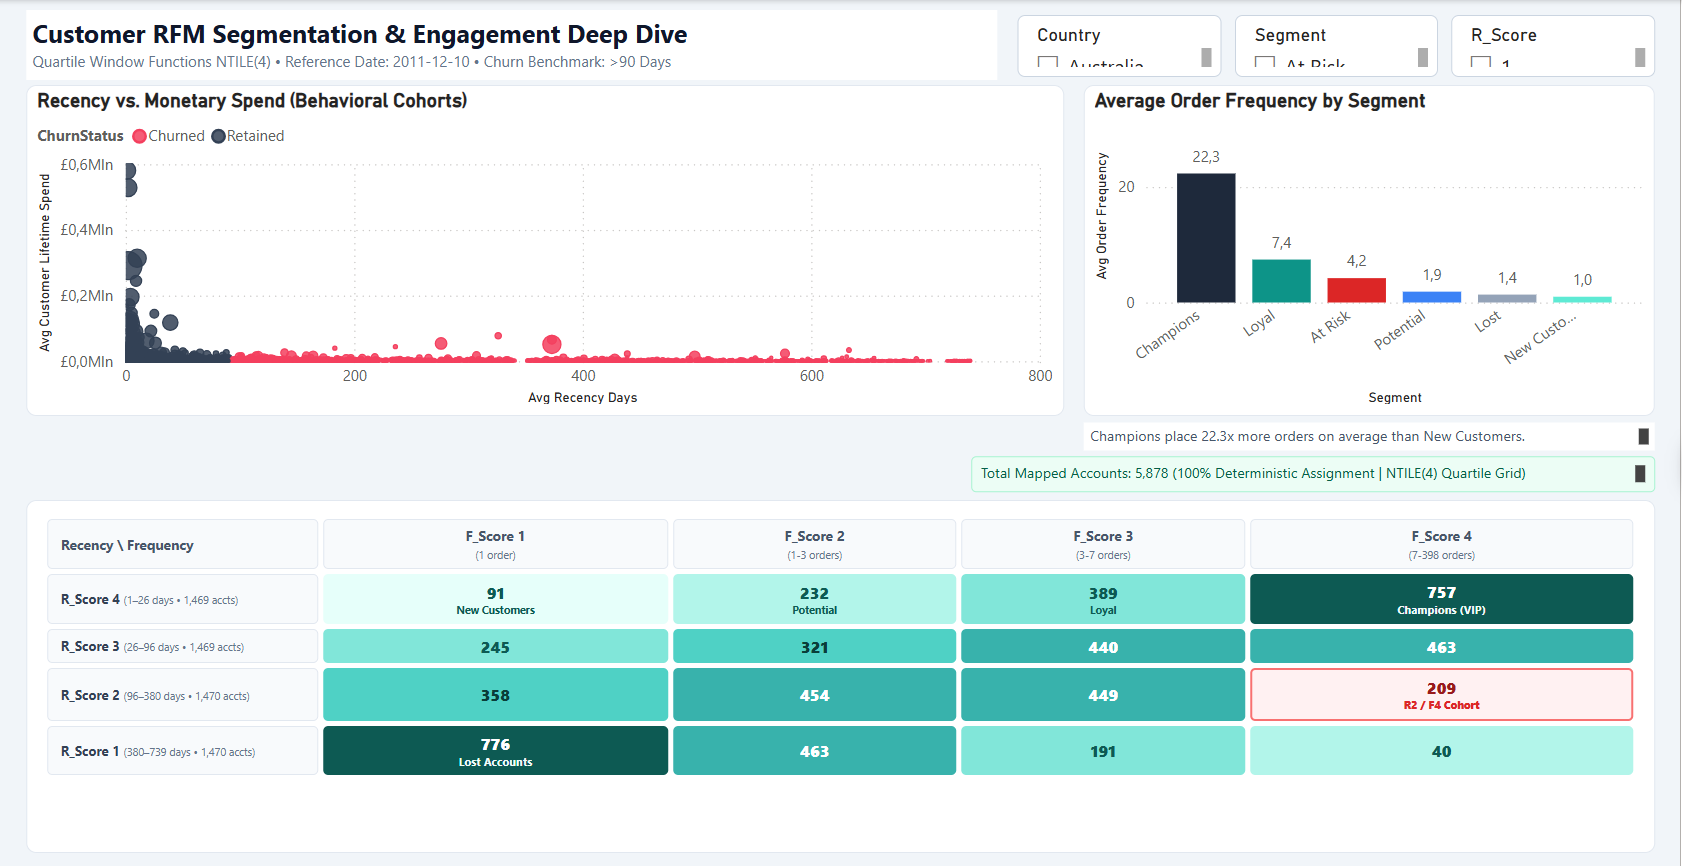

The dashboard page shown, as its layout file describes it:
{"tool":"powerbi","page":{"name":"RFM Deep Dive & Matrix","canvas":[1280,720],"ordinal":1},"visuals":[{"type":"textbox","box":[20,8,740,58],"z":0},{"type":"slicer","fields":{"Values":["customer_churn_rfm.Country"]},"box":[770,10,155,52],"z":1000},{"type":"slicer","fields":{"Values":["customer_churn_rfm.Segment"]},"box":[935,10,155,52],"z":2000},{"type":"slicer","fields":{"Values":["customer_churn_rfm.R_Score"]},"box":[1100,10,160,52],"z":3000},{"type":"scatterChart","title":"Recency vs. Monetary Spend (Behavioral Cohorts)","fields":{"Category":["customer_churn_rfm.CustomerID"],"Series":["customer_churn_rfm.ChurnStatus"],"X":["customer_churn_rfm.Avg Recency Days"],"Y":["customer_churn_rfm.Avg Customer Lifetime Spend"],"Size":["customer_churn_rfm.Avg Order Frequency"]},"box":[20,70,790,275],"z":4000},{"type":"clusteredColumnChart","title":"Average Order Frequency by Segment","fields":{"Category":["customer_churn_rfm.Segment"],"Y":["customer_churn_rfm.Avg Order Frequency"]},"box":[825,70,435,275],"z":5000},{"type":"textbox","box":[825,350,435,24],"z":6000},{"type":"textbox","box":[740,378,520,30],"z":7000},{"type":"pbixHtml5C3A2F1E9B7D46A8C0E1D2F3A4B5C6D7","title":"RFM Customer Density Heatmap Matrix (4 × 4 Quartile Grid)","fields":{"content":["C"]},"box":[20,414,1240,294],"z":8000}]}

Visuals, with their boxes on the page's 1280x720 design canvas (x1, y1, x2, y2). These are canvas units, not pixel positions in the 1682x866 screenshot, which may show the page scaled, cropped or inside an application window:
textbox: bbox=[20, 8, 760, 66]
slicer - customer_churn_rfm.Country: bbox=[770, 10, 925, 62]
slicer - customer_churn_rfm.Segment: bbox=[935, 10, 1090, 62]
slicer - customer_churn_rfm.R_Score: bbox=[1100, 10, 1260, 62]
"Recency vs. Monetary Spend (Behavioral Cohorts)" scatterChart: bbox=[20, 70, 810, 345]
"Average Order Frequency by Segment" clusteredColumnChart: bbox=[825, 70, 1260, 345]
textbox: bbox=[825, 350, 1260, 374]
textbox: bbox=[740, 378, 1260, 408]
"RFM Customer Density Heatmap Matrix (4 × 4 Quartile Grid)" pbixHtml5C3A2F1E9B7D46A8C0E1D2F3A4B5C6D7: bbox=[20, 414, 1260, 708]
